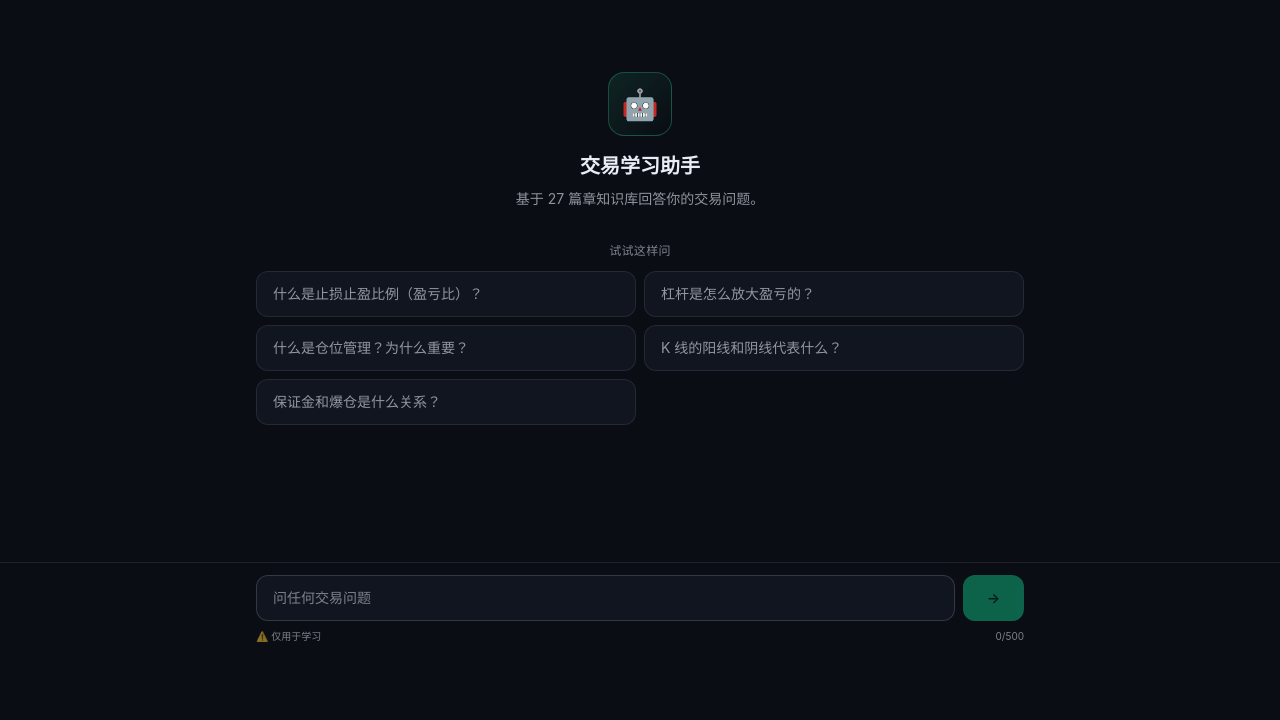
Test case: AiChat 错误态分级（R1.11） › 失败后重试会复用最后一条用户问题，成功时清空错误态
The width and height of the screenshot is (1280, 720).
Click the button "什么是止损止盈比例（盈亏比）？": (446, 294) x1=256 y1=271 x2=636 y2=317
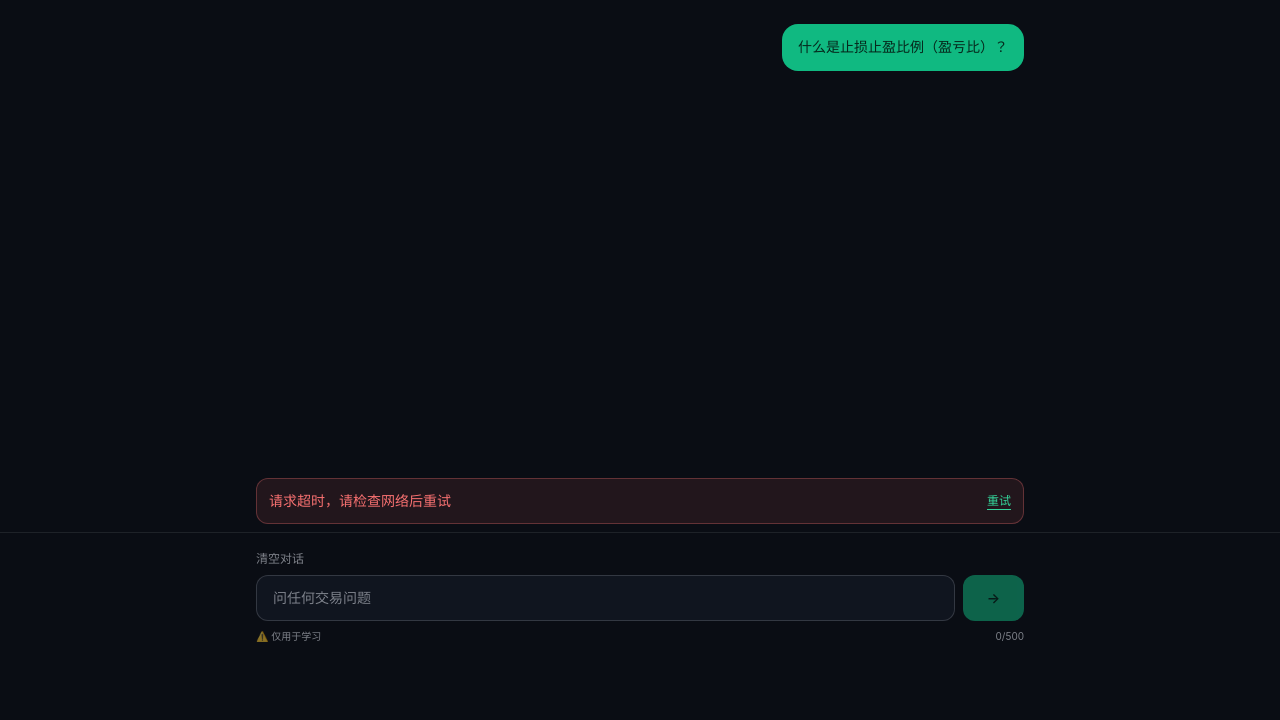
Expected: the text "请求超时，请检查网络后重试" is shown, x1=269 y1=491 x2=451 y2=511
Click the button "重试": (999, 501) x1=987 y1=493 x2=1011 y2=509
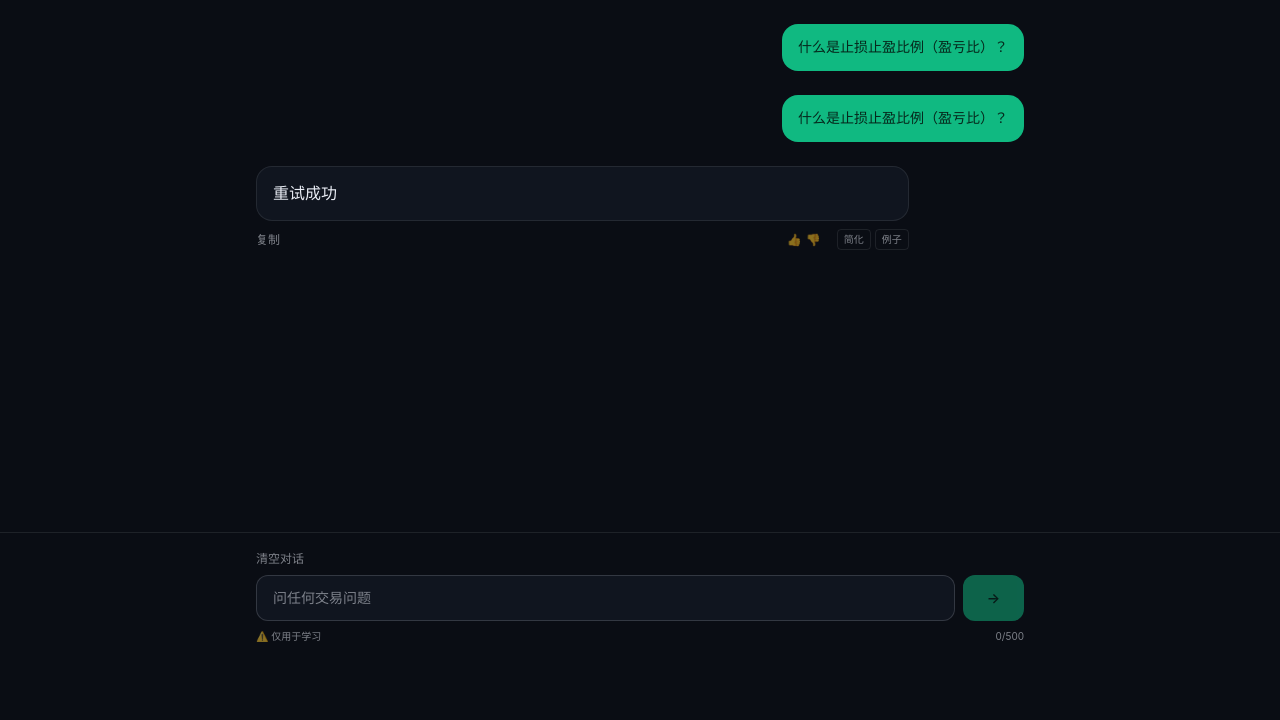
Expected: the text "重试成功" is shown, x1=273 y1=182 x2=337 y2=202
Expected: the text "请求超时，请检查网络后重试" is gone
